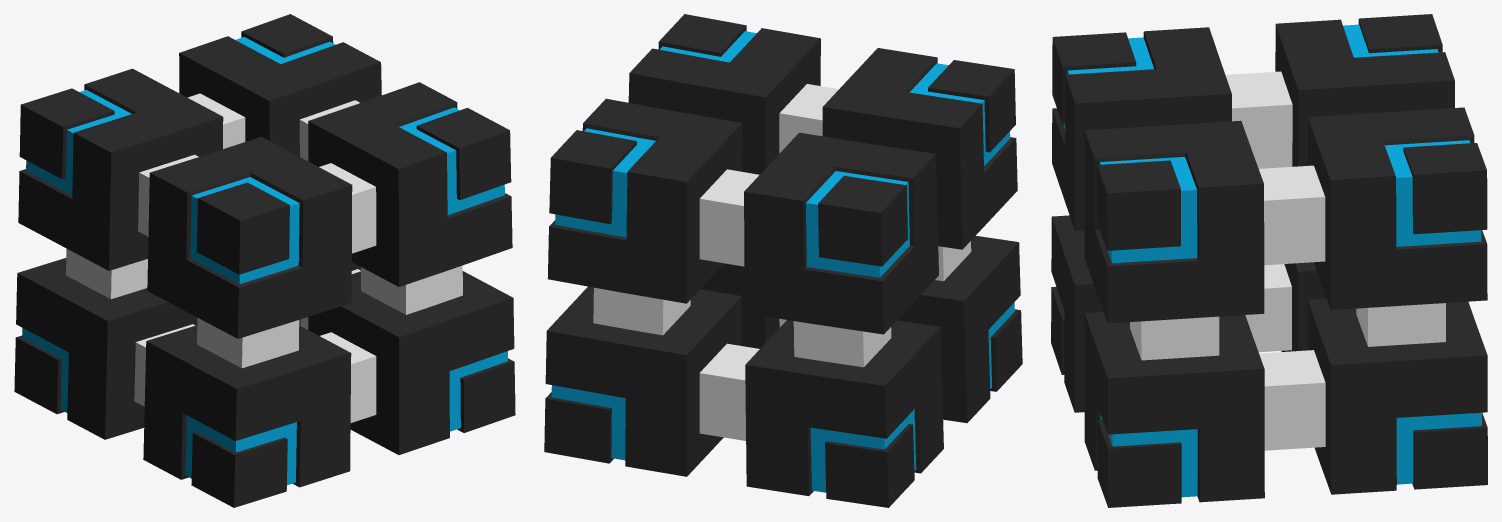
File: Start_screen_invert_cube.fbx
The picture shows the model from 3 angles, left to right: view 1: azimuth 30°, elevation 25°; view 2: azimuth 150°, elevation 25°; view 3: azimuth 270°, elevation 25°; orthographic projection. The views are drawn at different scales.
Parts seen in each view (by area): view 1: pCube53; view 2: pCube53; view 3: pCube53.
Boxes of the visible parts, left/top/right/bottom form: pCube53: left=14, top=14, right=515, bottom=507; pCube53: left=544, top=14, right=1022, bottom=507; pCube53: left=1051, top=14, right=1487, bottom=507.
Size of the model in its own units: 11.06 by 8.64 by 10.92.
